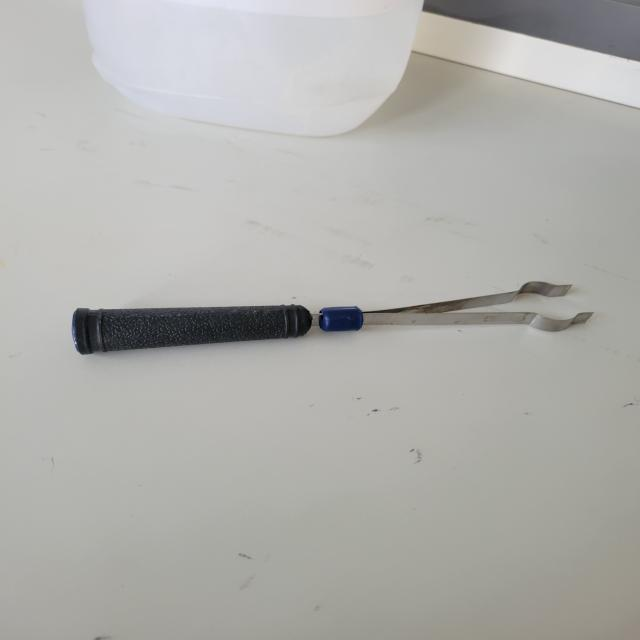TestTube_Holder: (43, 230, 617, 417)
